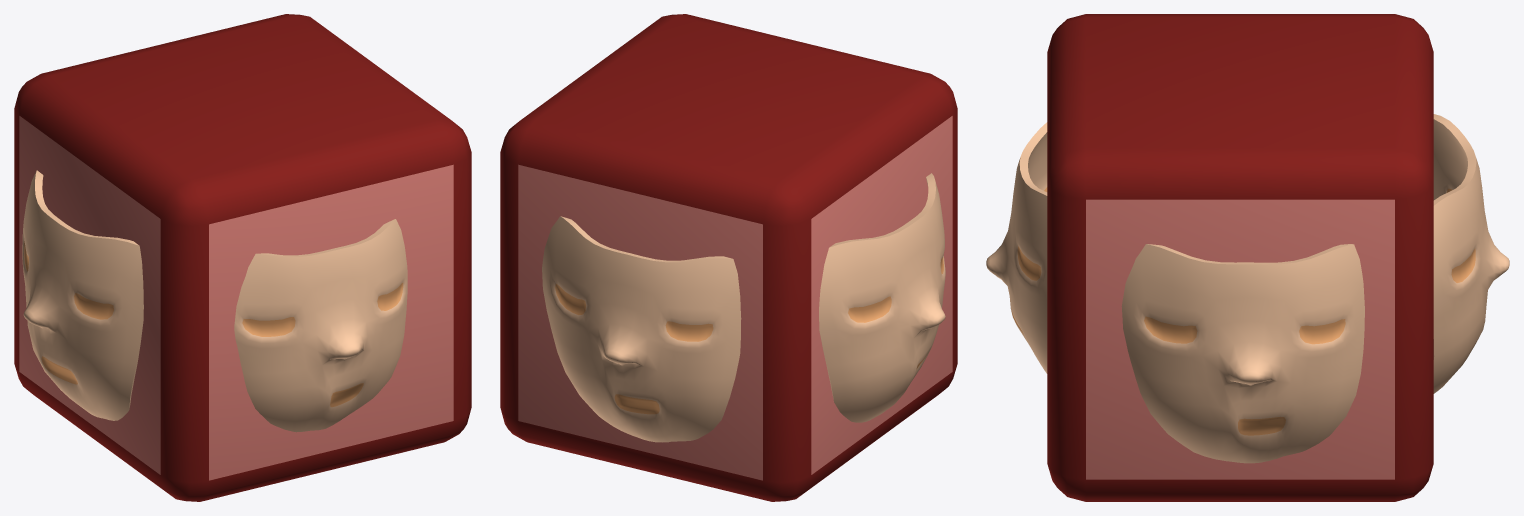
The model's file is 1maskegucicon.fbx.
3 renders of one model, left to right at view 1: azimuth 30°, elevation 25°; view 2: azimuth 150°, elevation 25°; view 3: azimuth 270°, elevation 25°, orthographic. The views are drawn at different scales.
Parts seen in each view (by area): view 1: Cube, Cylinder.001, Cylinder.002; view 2: Cube, Cylinder.003, Cylinder.002; view 3: Cube, Cylinder.004, Cylinder.003, Cylinder.001.
Part boxes in pixels (bbox=[...]): Cube: bbox=[14, 14, 471, 501]; Cylinder.001: bbox=[234, 219, 407, 432]; Cylinder.002: bbox=[22, 170, 143, 420]; Cube: bbox=[500, 14, 957, 501]; Cylinder.003: bbox=[542, 216, 741, 442]; Cylinder.002: bbox=[819, 173, 945, 422]; Cube: bbox=[1047, 14, 1433, 501]; Cylinder.004: bbox=[1121, 244, 1364, 463]; Cylinder.003: bbox=[1433, 114, 1509, 393]; Cylinder.001: bbox=[986, 122, 1047, 373].
Size of the model in its own units: 278 by 200 by 271.
